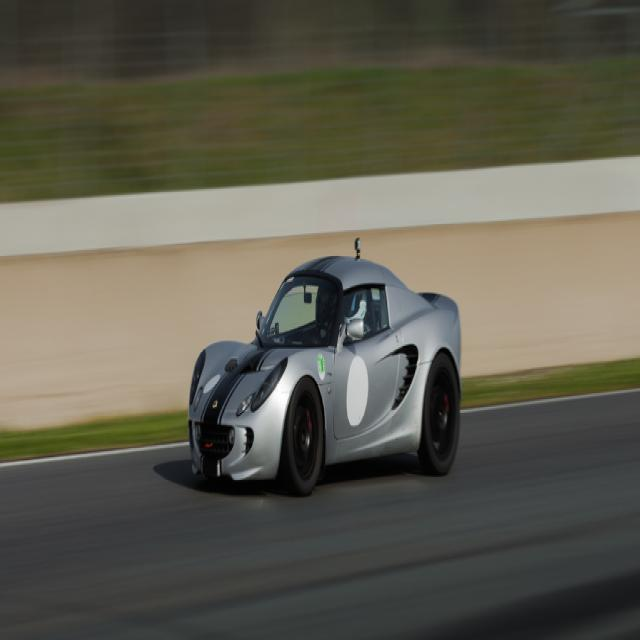car: (181, 239, 460, 489)
